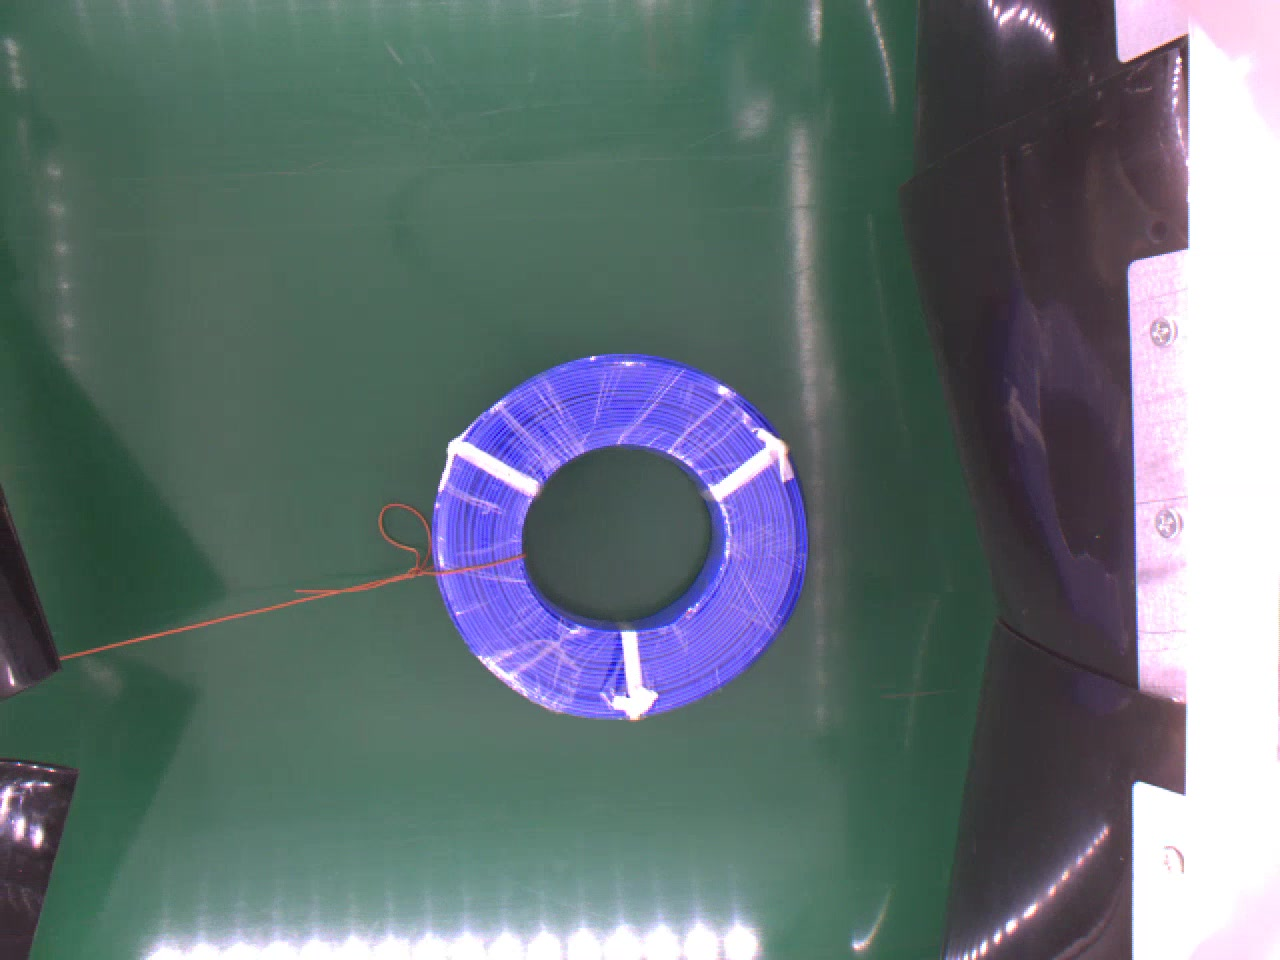blue: (434, 354, 815, 724)
